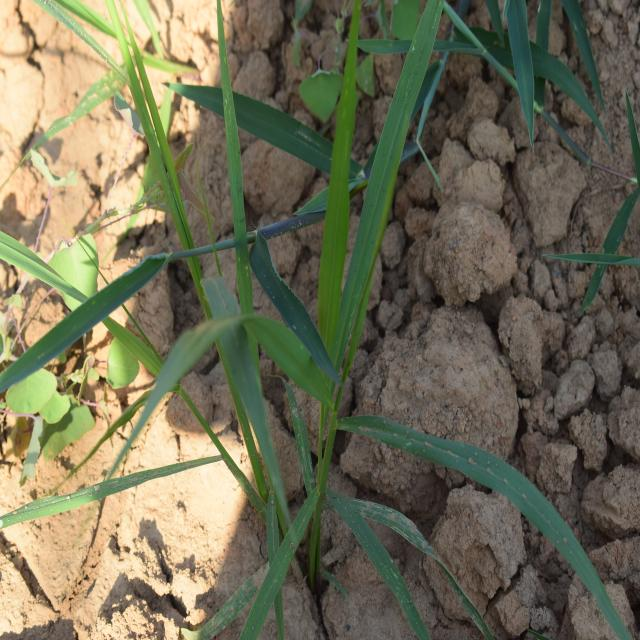green_foxtail: (119, 38, 433, 562)
